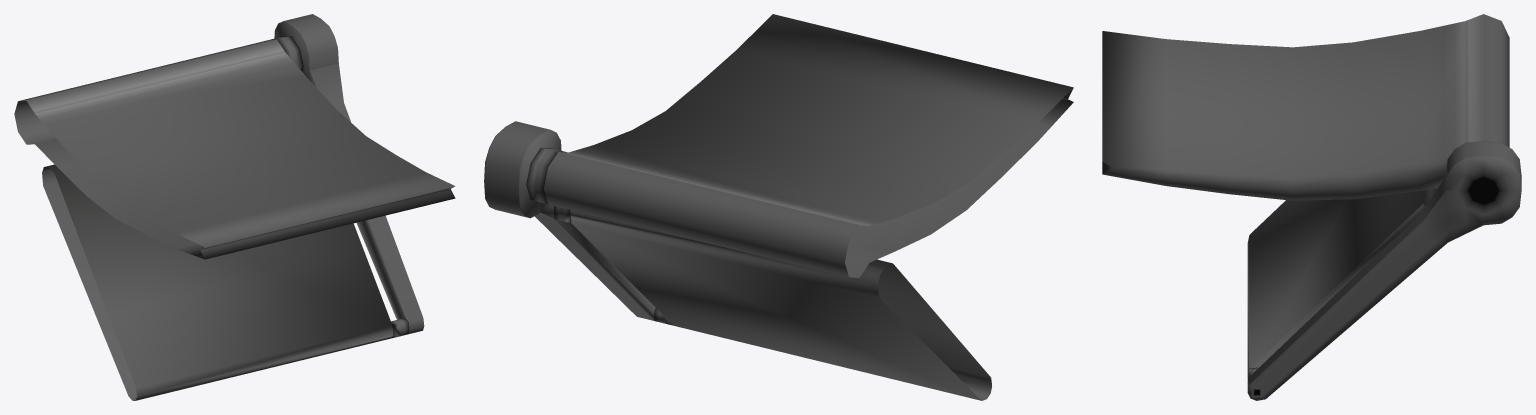
The model's file is tiles_prison_couch_2.glb.
The picture shows the model from 3 angles, left to right: view 1: azimuth 30°, elevation 25°; view 2: azimuth 150°, elevation 25°; view 3: azimuth 270°, elevation 25°; orthographic projection. The views are drawn at different scales.
Visible parts, largest first — view 1: PrisonCouch2; view 2: PrisonCouch2; view 3: PrisonCouch2.
Part boxes in pixels (x1,y1,x2,y2): PrisonCouch2: [14, 14, 455, 400]; PrisonCouch2: [484, 14, 1073, 400]; PrisonCouch2: [1102, 14, 1521, 400].
Bounding box in the file's own units: 2 × 1.51 × 2.31.
Materials: 1 (1 with a texture image).
